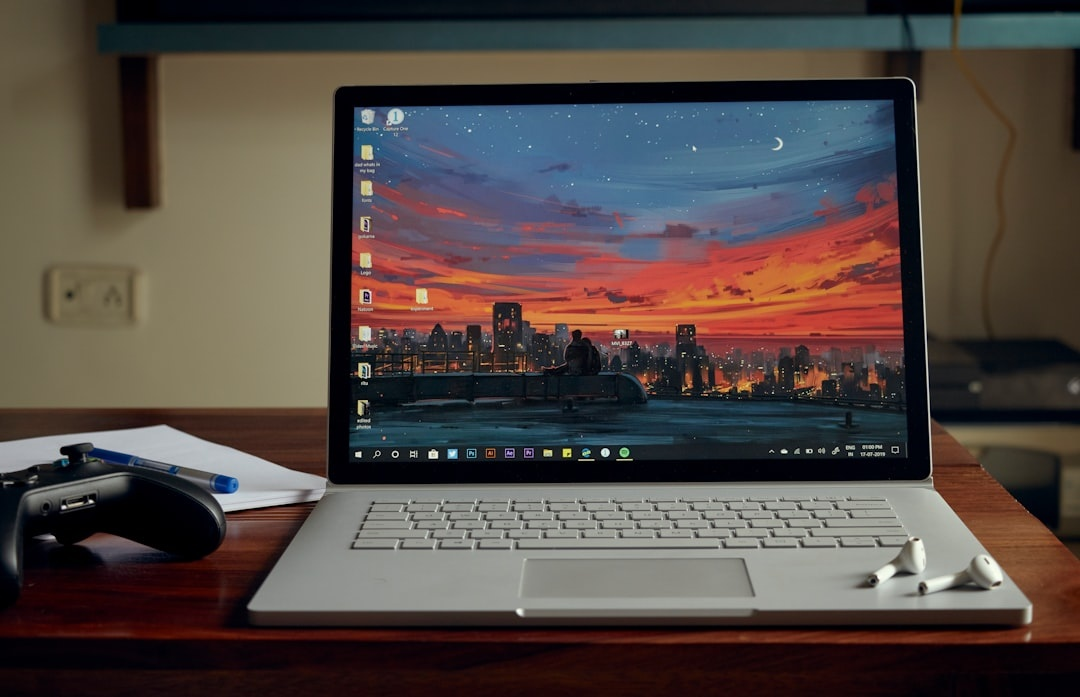laptop: (243, 38, 1051, 642)
